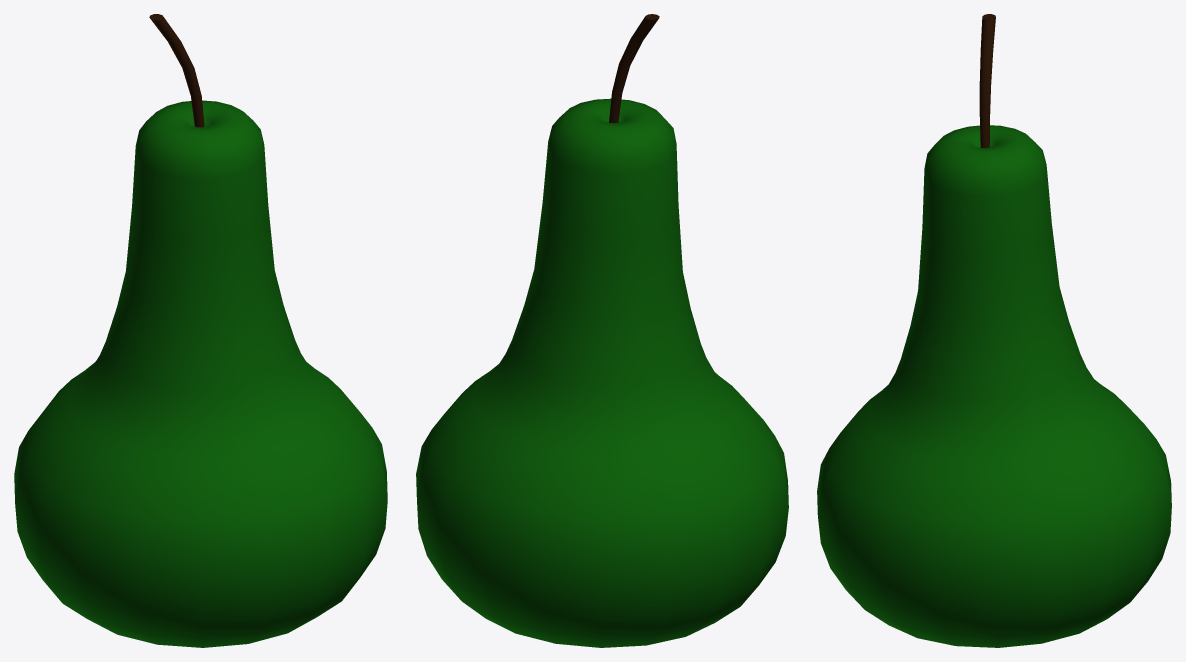
File: 3D_Pear.FBX
The picture shows the model from 3 angles, left to right: view 1: azimuth 30°, elevation 25°; view 2: azimuth 150°, elevation 25°; view 3: azimuth 270°, elevation 25°; orthographic projection. The views are drawn at different scales.
Visible parts, largest first — view 1: 3D_Pear; view 2: 3D_Pear; view 3: 3D_Pear.
Part boxes in pixels (<box>): 3D_Pear: <box>14,14,387,647</box>; 3D_Pear: <box>416,14,788,647</box>; 3D_Pear: <box>817,14,1171,647</box>.
Size of the model in its own units: 51.04 by 89.36 by 50.38.
